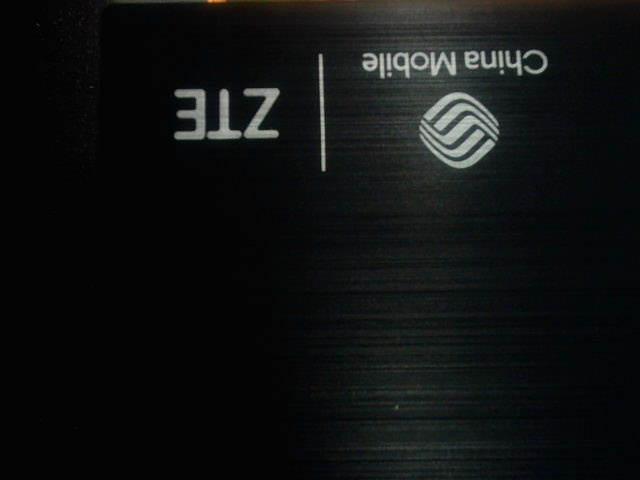AL_ZTEChinaMobile: (146, 31, 557, 180)
